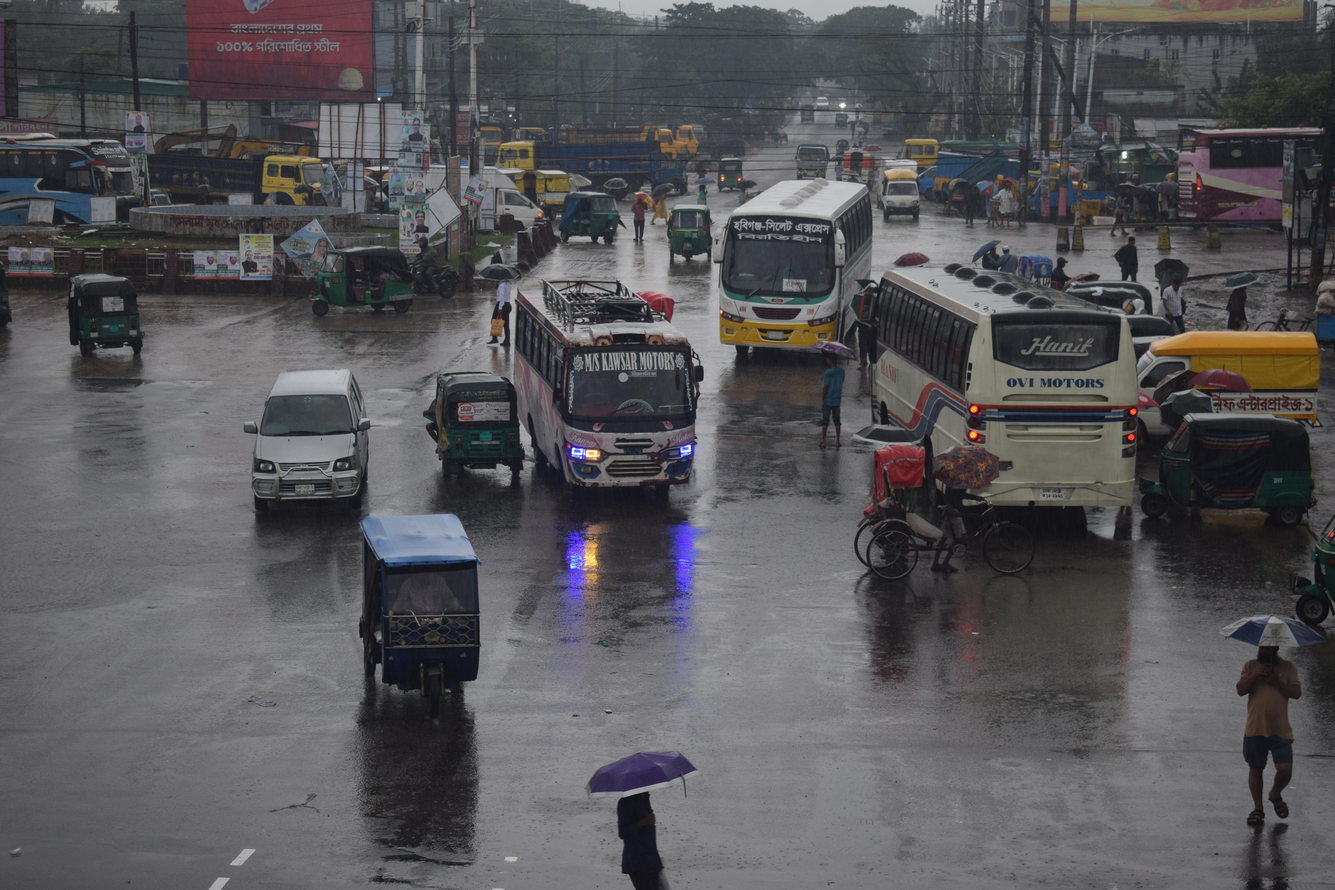Bus: (827, 236, 1193, 570), (474, 227, 736, 527), (698, 139, 902, 391), (1151, 90, 1335, 267), (0, 99, 185, 260)
Car: (306, 502, 527, 745), (832, 416, 1062, 619), (196, 349, 380, 538), (1129, 296, 1335, 427), (865, 150, 928, 222)
Truck: (488, 121, 704, 216), (178, 121, 346, 231)
